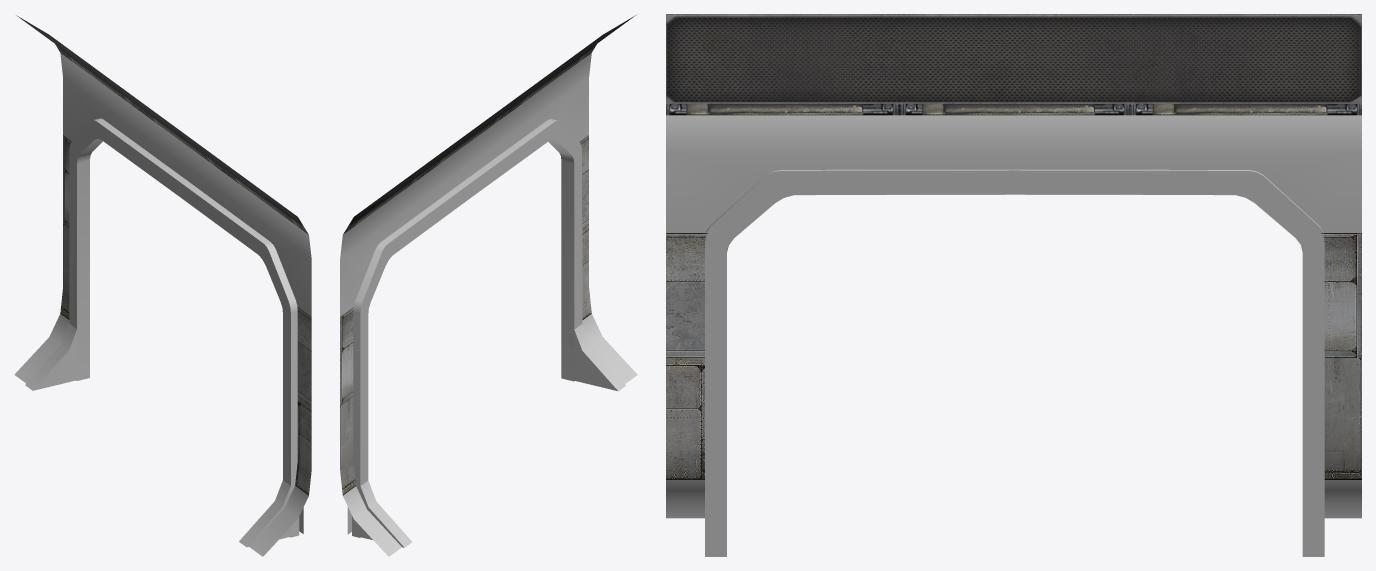
The model's file is Wall_L_Mid4mts_05.fbx.
The picture shows the model from 3 angles, left to right: view 1: azimuth 30°, elevation 25°; view 2: azimuth 150°, elevation 25°; view 3: azimuth 270°, elevation 25°; orthographic projection. The views are drawn at different scales.
Parts seen in each view (by area): view 1: Wall_L_Mid4mts_05; view 2: Wall_L_Mid4mts_05; view 3: Wall_L_Mid4mts_05.
Part boxes in pixels (left/top/right/bottom): Wall_L_Mid4mts_05: left=14, top=15, right=311, bottom=556; Wall_L_Mid4mts_05: left=340, top=15, right=637, bottom=556; Wall_L_Mid4mts_05: left=666, top=14, right=1361, bottom=556.
Bounding box in the file's own units: 66.24 × 401 × 500.
